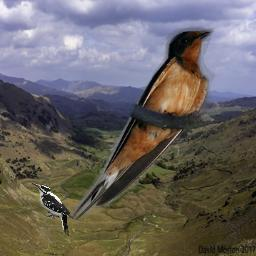Swallow: (65, 25, 216, 222)
Woodpecker: (31, 181, 74, 238)
